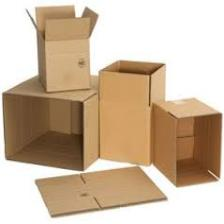cardboard: (2, 79, 123, 171), (92, 56, 170, 174), (148, 88, 224, 196), (20, 11, 105, 90), (33, 170, 165, 218)
